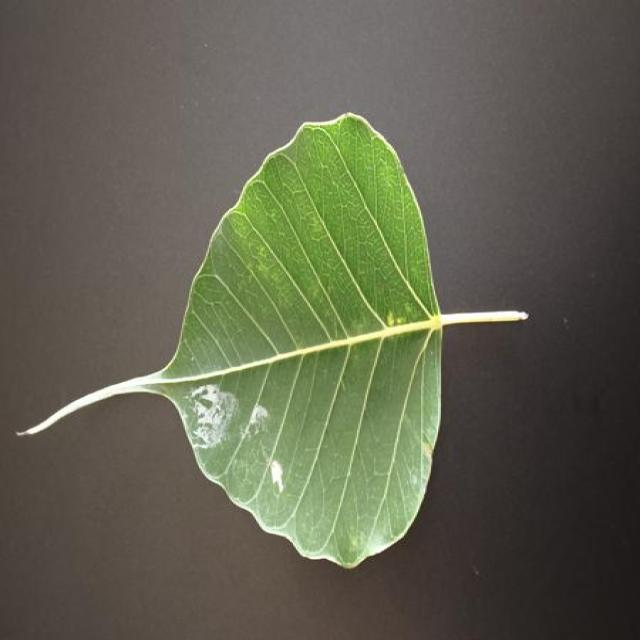arali: (18, 114, 527, 567)
defected arali: (20, 114, 527, 567)
